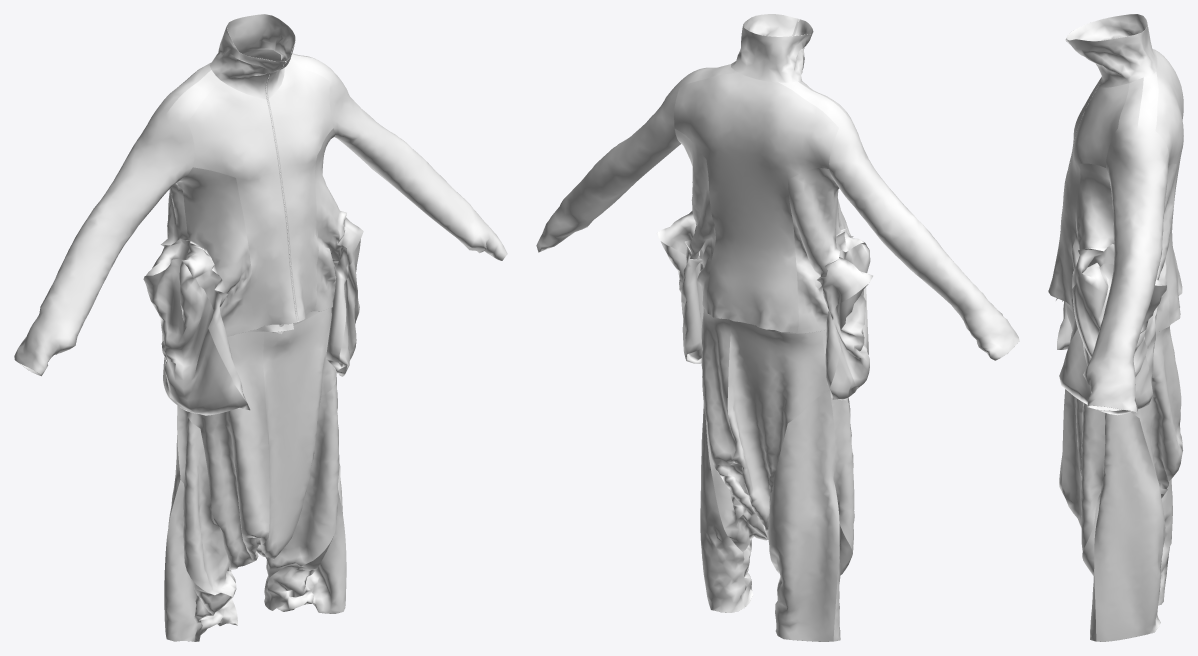
Rendered from asset.gltf.
3 views of the same model, side by side, from view 1: azimuth 30°, elevation 25°; view 2: azimuth 150°, elevation 25°; view 3: azimuth 270°, elevation 25° (orthographic). The views are drawn at different scales.
Parts seen in each view (by area): view 1: P0019, P0017, P0024, P0012, P0027, P0008, P0006, P0018, P0002, P0021, PARTS28, P0001 (+3 smaller); view 2: PARTS22, P0007, P0004, P0019, P0008, P0003, P0024, P0018, P0022, PARTS28, P0009, P0005 (+2 smaller); view 3: P0008, P0022, P0009, P0006, P0005, PARTS28, P0003, PARTS22, P0021, P0012, P0007, P0020 (+2 smaller).
Part boxes in pixels (bbox=[...]): P0019: bbox=[14, 62, 219, 376]; P0017: bbox=[187, 80, 296, 328]; P0024: bbox=[143, 238, 250, 415]; P0012: bbox=[256, 308, 336, 559]; P0027: bbox=[187, 331, 269, 570]; P0008: bbox=[256, 48, 507, 260]; P0006: bbox=[269, 63, 333, 321]; P0018: bbox=[161, 167, 256, 336]; P0002: bbox=[177, 405, 236, 597]; P0021: bbox=[265, 377, 339, 577]; PARTS28: bbox=[209, 14, 295, 99]; P0001: bbox=[164, 480, 237, 641]; PARTS22: bbox=[674, 73, 838, 333]; P0007: bbox=[768, 389, 839, 641]; P0004: bbox=[727, 320, 829, 538]; P0019: bbox=[778, 81, 1019, 360]; P0008: bbox=[536, 64, 738, 252]; P0003: bbox=[701, 308, 768, 551]; P0024: bbox=[817, 228, 872, 400]; P0018: bbox=[787, 168, 851, 333]; P0022: bbox=[700, 404, 744, 612]; PARTS28: bbox=[731, 14, 813, 82]; P0009: bbox=[656, 211, 703, 363]; P0005: bbox=[674, 129, 715, 313]; P0008: bbox=[1083, 71, 1168, 412]; P0022: bbox=[1094, 412, 1165, 641]; P0009: bbox=[1059, 244, 1166, 415]; P0006: bbox=[1048, 83, 1129, 307]; P0005: bbox=[1071, 163, 1178, 332]; PARTS28: bbox=[1066, 14, 1157, 87]; P0003: bbox=[1131, 326, 1182, 498]; PARTS22: bbox=[1155, 50, 1183, 326]; P0021: bbox=[1080, 404, 1105, 555]; P0012: bbox=[1062, 303, 1085, 528]; P0007: bbox=[1158, 479, 1172, 605]; P0020: bbox=[1082, 493, 1100, 641].
Bounding box in the file's own units: 1.27 × 1.54 × 0.3175.
11 materials, 11 textured.
